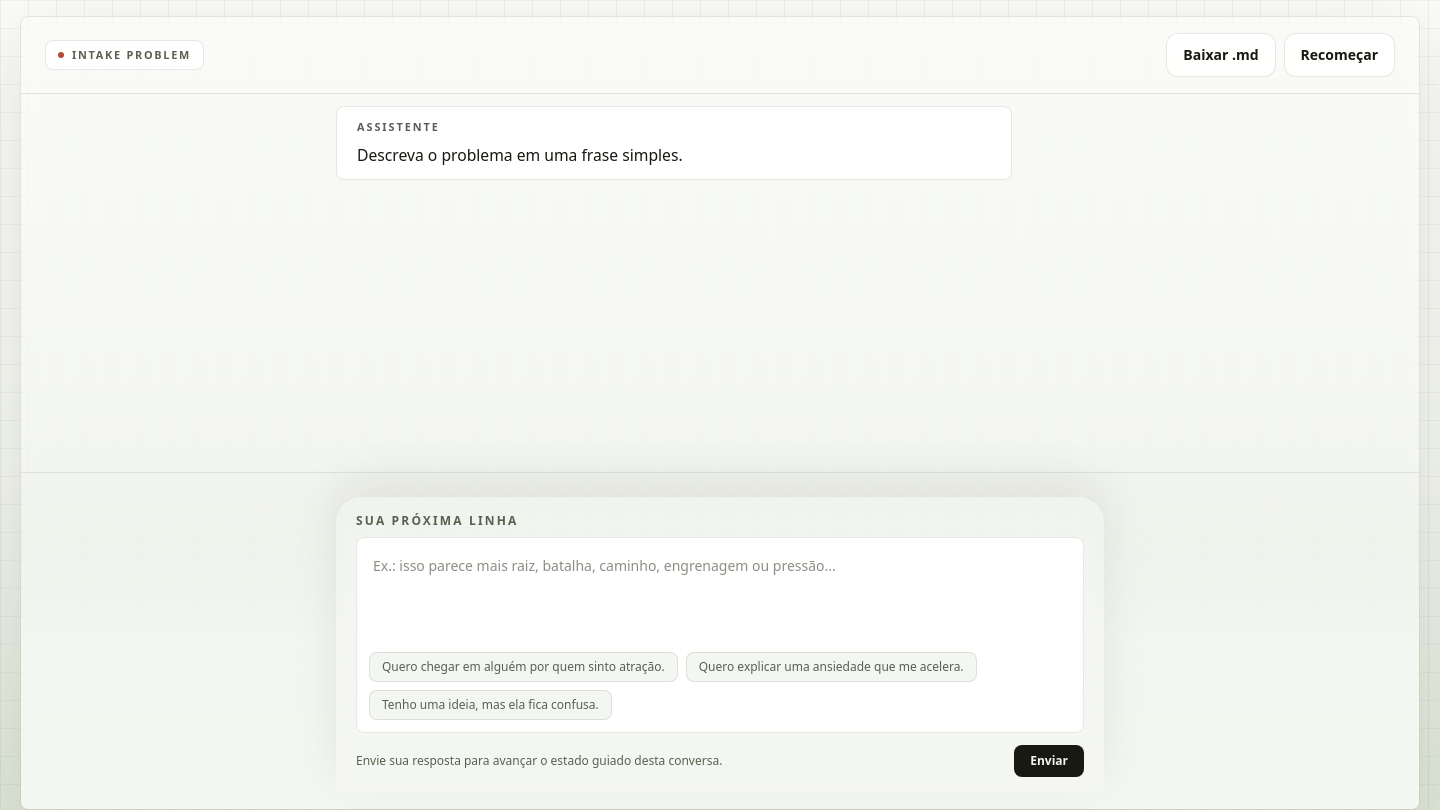
ChatSessionPageClient › fills the controlled input when a suggestion is clicked
Click the button "Quero chegar em alguém por quem sinto atração.".
click(523, 667)  # box left=369, top=652, right=678, bottom=682
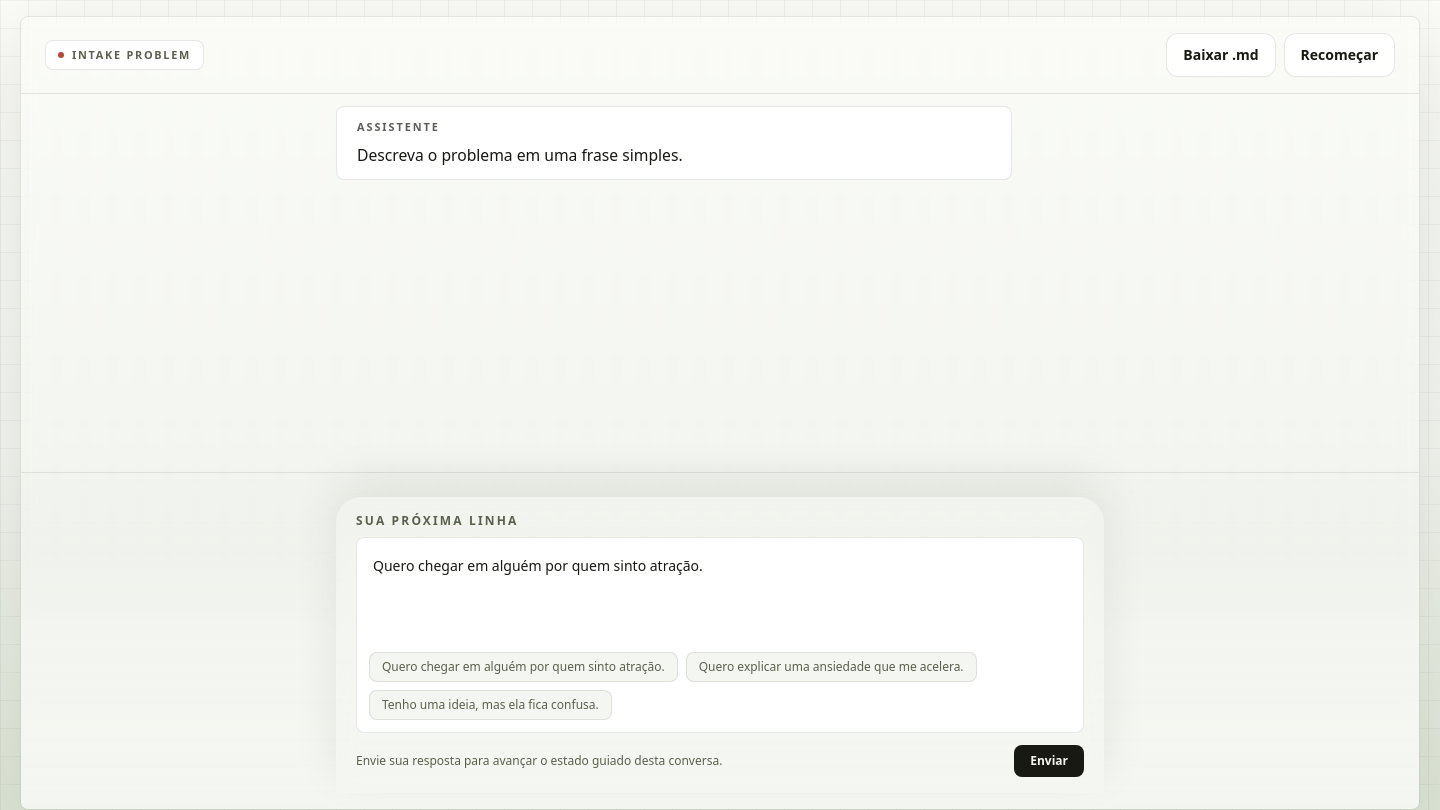
Expected: the text box named "Message input" holds "Quero chegar em alguém por quem sinto atração.", left=369, top=550, right=1071, bottom=634
